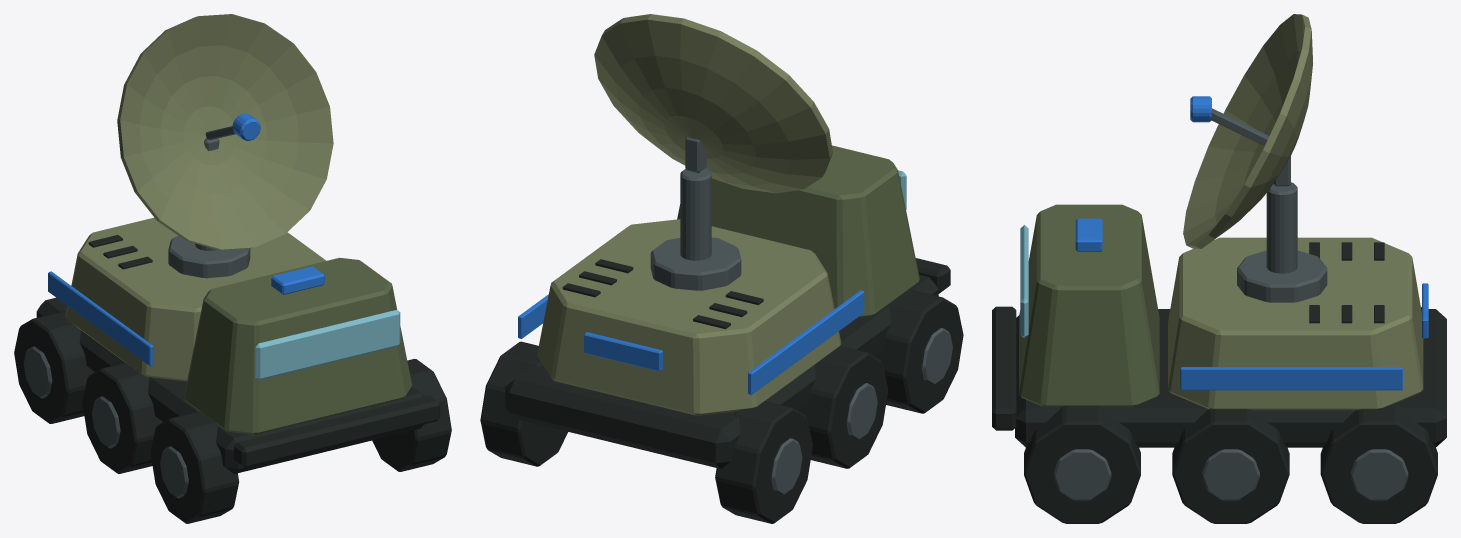
File: h_radar.glb
3 renders of one model, left to right at view 1: azimuth 30°, elevation 25°; view 2: azimuth 150°, elevation 25°; view 3: azimuth 270°, elevation 25°, orthographic. The views are drawn at different scales.
Visible parts, largest first — view 1: Radar carrier, Scanning antenna; view 2: Radar carrier, Scanning antenna; view 3: Radar carrier, Scanning antenna.
Boxes of the visible parts, left/top/right/bottom form: Radar carrier: left=14, top=217, right=451, bottom=523; Scanning antenna: left=117, top=14, right=333, bottom=250; Radar carrier: left=480, top=145, right=963, bottom=523; Scanning antenna: left=594, top=14, right=832, bottom=193; Radar carrier: left=992, top=182, right=1446, bottom=523; Scanning antenna: left=1183, top=14, right=1312, bottom=248.
Size of the model in its own units: 2.39 by 3.54 by 3.37.
